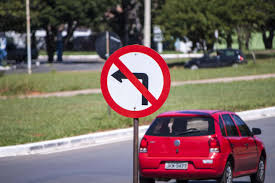No_left_turn: (100, 44, 171, 118)
